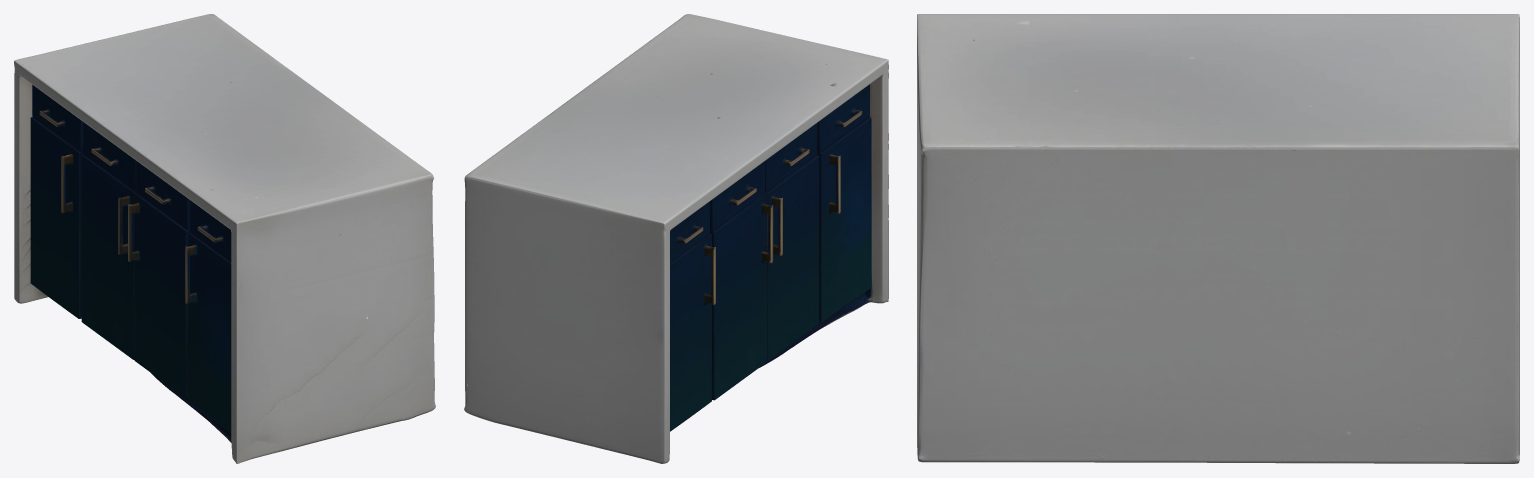
The model's file is kitchen island.glb.
3 renders of one model, left to right at view 1: azimuth 30°, elevation 25°; view 2: azimuth 150°, elevation 25°; view 3: azimuth 270°, elevation 25°, orthographic. The views are drawn at different scales.
Visible parts, largest first — view 1: material; view 2: material; view 3: material.
Part boxes in pixels (bbox=[...]): material: bbox=[14, 14, 435, 463]; material: bbox=[464, 14, 888, 463]; material: bbox=[917, 14, 1519, 463].
Bounding box in the file's own units: 0.4904 × 0.5625 × 0.9433.
Materials: 1 (1 with a texture image).
